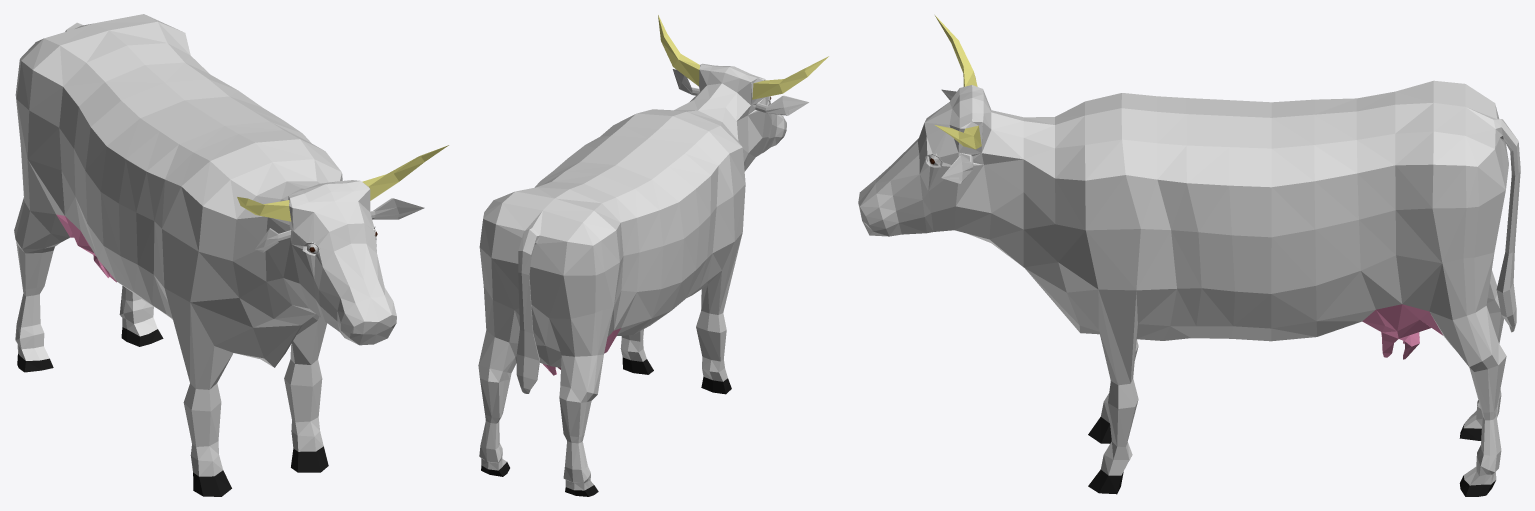
The model's file is LP_cow.fbx.
3 renders of one model, left to right at view 1: azimuth 30°, elevation 25°; view 2: azimuth 150°, elevation 25°; view 3: azimuth 270°, elevation 25°, orthographic. The views are drawn at different scales.
Visible parts, largest first — view 1: Cube; view 2: Cube; view 3: Cube.
Part boxes in pixels (x1=…): Cube: x1=14, y1=14, x2=448, y2=496; Cube: x1=478, y1=15, x2=828, y2=496; Cube: x1=858, y1=15, x2=1520, y2=496.
Bounding box in the file's own units: 91 × 150 × 230.
